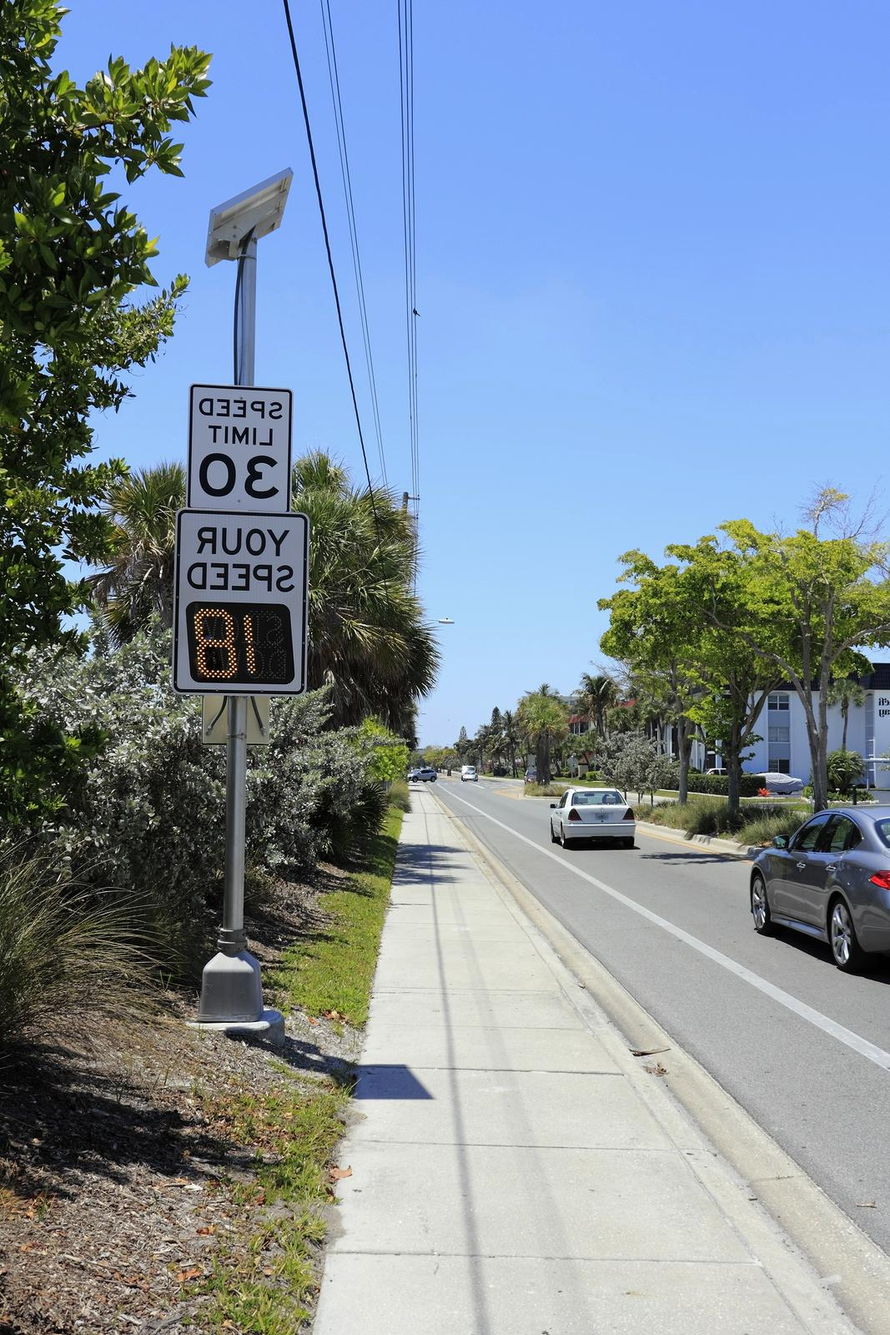speed limit sign: (189, 395, 297, 513)
